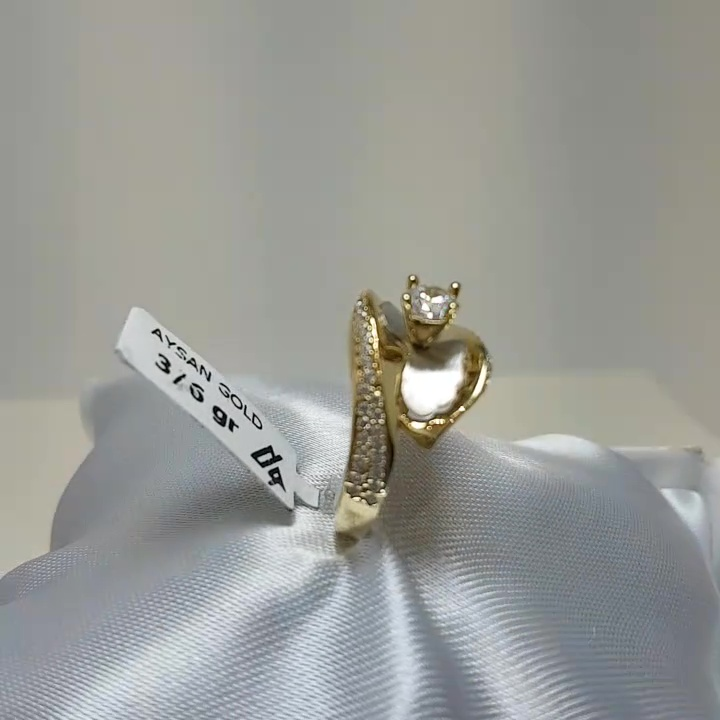Ring 6: (308, 270, 495, 539)
